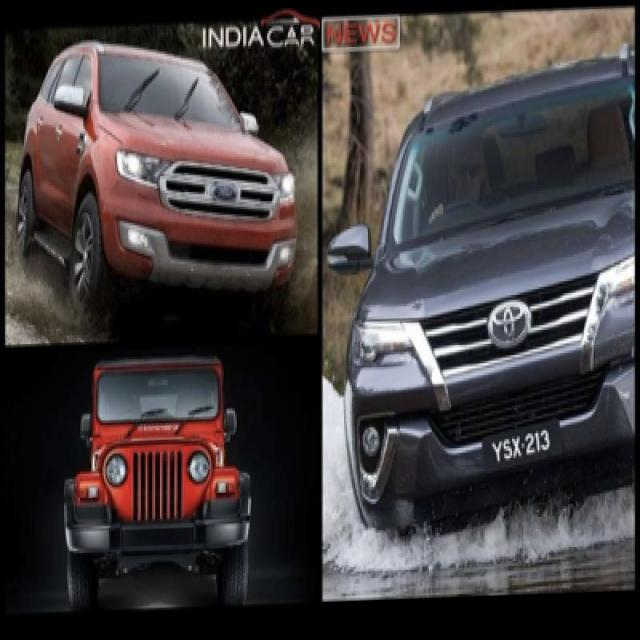licence: (488, 432, 560, 475)
